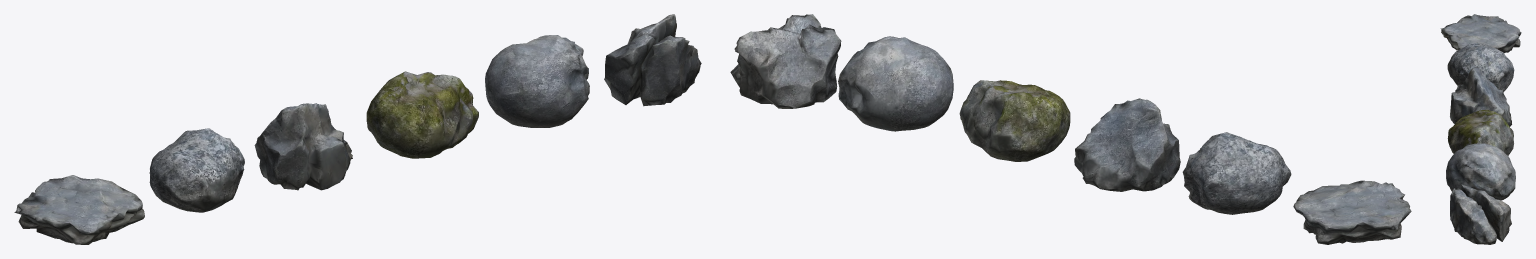
Rendered from rocks_small.glb.
3 renders of one model, left to right at view 1: azimuth 30°, elevation 25°; view 2: azimuth 150°, elevation 25°; view 3: azimuth 270°, elevation 25°, orthographic. The views are drawn at different scales.
Visible parts, largest first — view 1: round, mossy, angular, flat, speckled, split; view 2: round, split, angular, mossy, speckled, flat; view 3: round, split, flat, mossy, speckled, angular.
Boxes of the visible parts, box(x1,y1,x2,y2) form: round: box(485, 35, 589, 127); mossy: box(366, 71, 478, 158); angular: box(254, 103, 352, 190); flat: box(14, 175, 144, 244); speckled: box(149, 128, 244, 212); split: box(604, 14, 701, 106); round: box(838, 36, 953, 131); split: box(730, 14, 841, 108); angular: box(1074, 98, 1180, 191); mossy: box(959, 80, 1070, 161); speckled: box(1182, 132, 1291, 214); flat: box(1293, 180, 1411, 244); round: box(1446, 143, 1515, 200); split: box(1450, 183, 1511, 244); flat: box(1440, 14, 1521, 53); mossy: box(1447, 109, 1513, 155); speckled: box(1447, 42, 1514, 91); angular: box(1450, 67, 1511, 126).
Size of the model in its own units: 2.1 by 0.2205 by 0.3307.
Materials: 1 (1 with a texture image).
